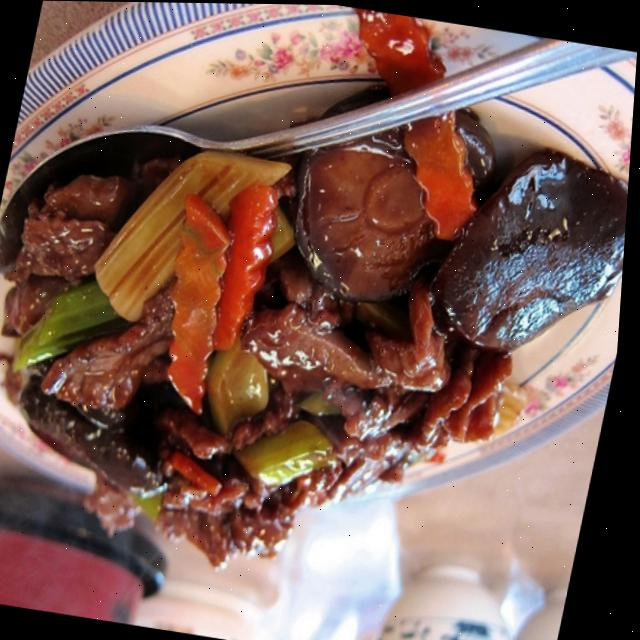牛肉菜式: (0, 2, 640, 620)
